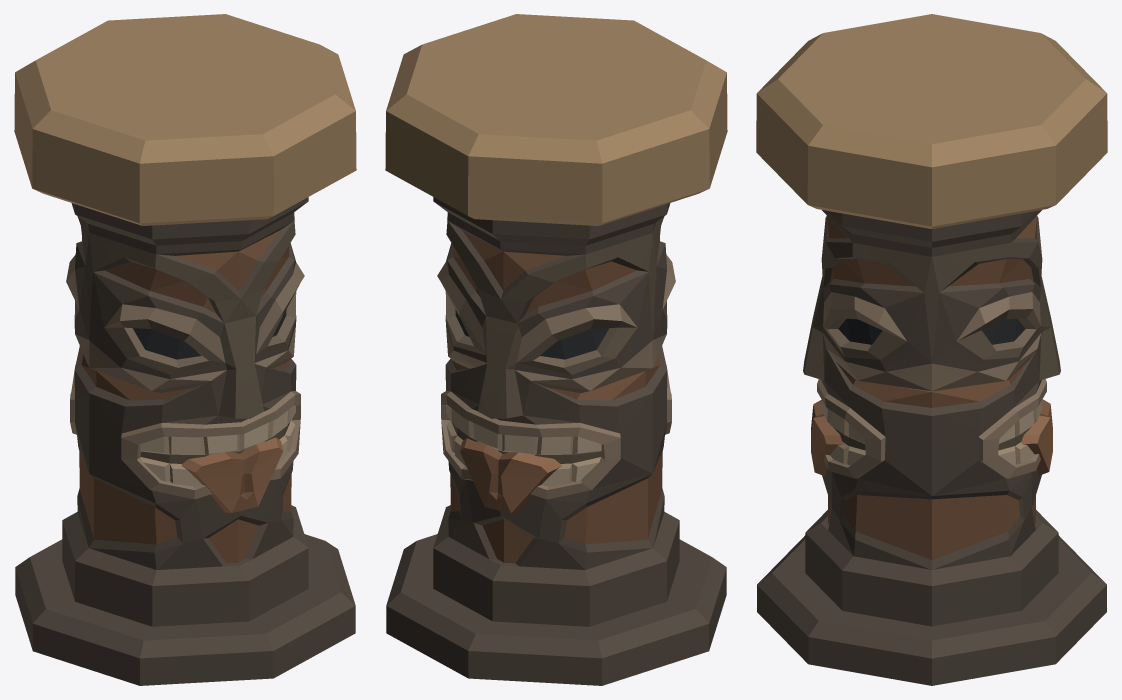
Rendered from SM_Prop_Stool_02.obj.
The picture shows the model from 3 angles, left to right: view 1: azimuth 30°, elevation 25°; view 2: azimuth 150°, elevation 25°; view 3: azimuth 270°, elevation 25°; orthographic projection.
Parts seen in each view (by area): view 1: SM_Prop_Stool_02_0; view 2: SM_Prop_Stool_02_0; view 3: SM_Prop_Stool_02_0.
Boxes of the visible parts, x1,y1,x2,y2 form: SM_Prop_Stool_02_0: (14,14,356,685); SM_Prop_Stool_02_0: (385,14,727,685); SM_Prop_Stool_02_0: (756,14,1107,685).
Size of the model in its own units: 0.4847 by 0.8106 by 0.4847.
Materials: 1 (1 with a texture image).
